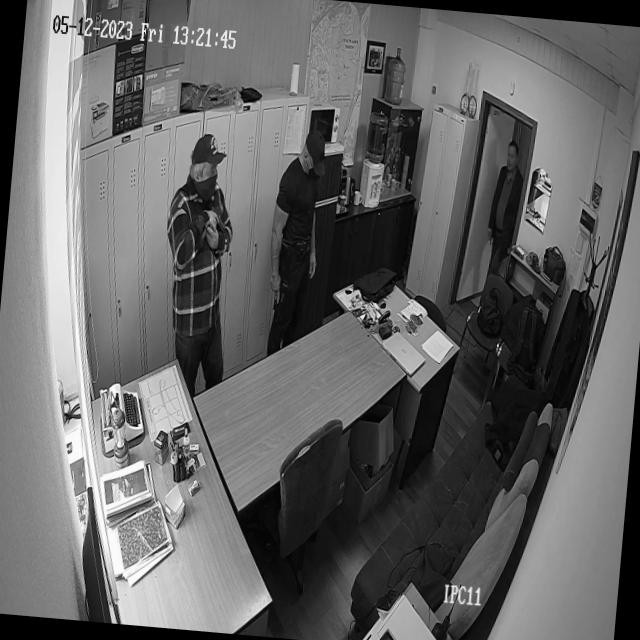gun: (267, 277, 287, 350), (205, 208, 228, 242)
person: (482, 134, 524, 268)
person with a gun: (154, 126, 243, 358), (261, 122, 330, 332)
